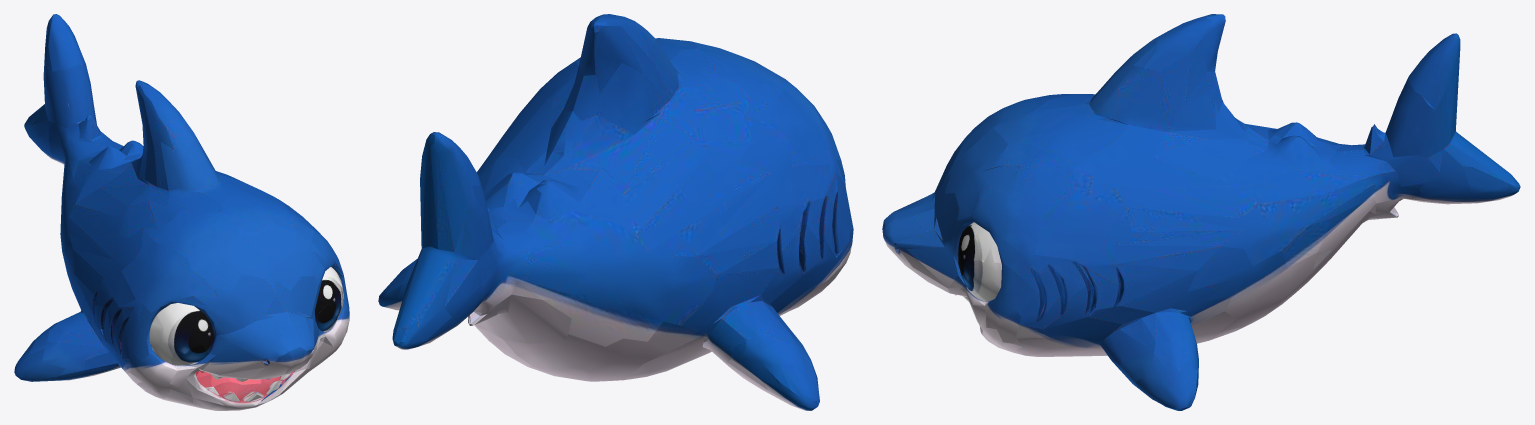
The model's file is shark.glb.
3 renders of one model, left to right at view 1: azimuth 30°, elevation 25°; view 2: azimuth 150°, elevation 25°; view 3: azimuth 270°, elevation 25°, orthographic. The views are drawn at different scales.
Visible parts, largest first — view 1: output_unwrapped; view 2: output_unwrapped; view 3: output_unwrapped.
Boxes of the visible parts, <box> form: output_unwrapped: <box>14,14,349,410</box>; output_unwrapped: <box>378,14,853,410</box>; output_unwrapped: <box>882,14,1520,410</box>.
Bounding box in the file's own units: 1.26 × 1.05 × 1.9.
Materials: 1 (1 with a texture image).
